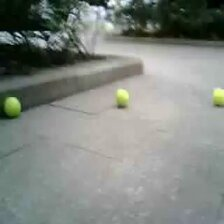tennis: (5, 96, 24, 118), (115, 88, 131, 106), (212, 87, 224, 106)
